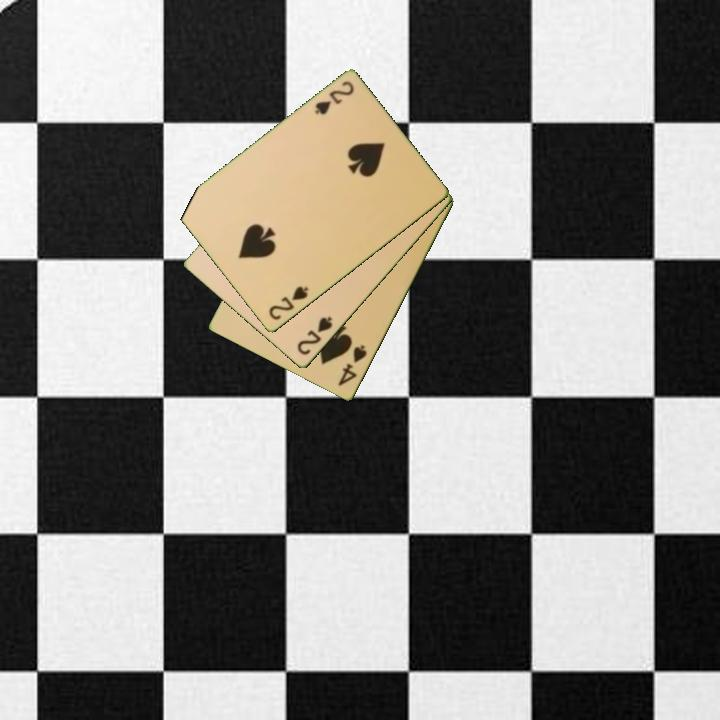2s: (294, 313, 336, 358), (265, 283, 311, 324), (311, 78, 357, 118)
4s: (335, 342, 370, 389)
